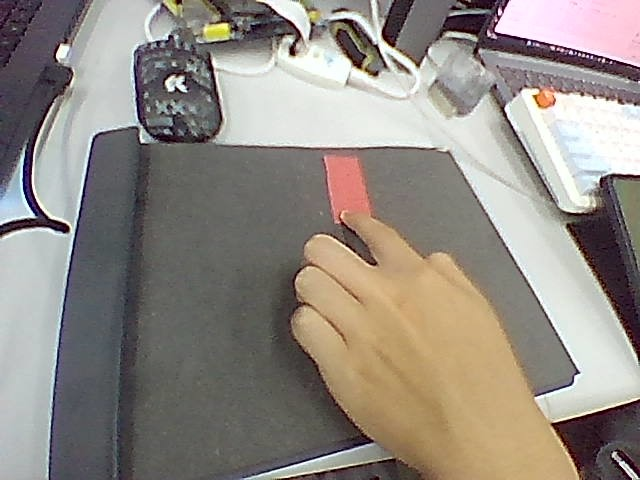card: (324, 155, 370, 222)
